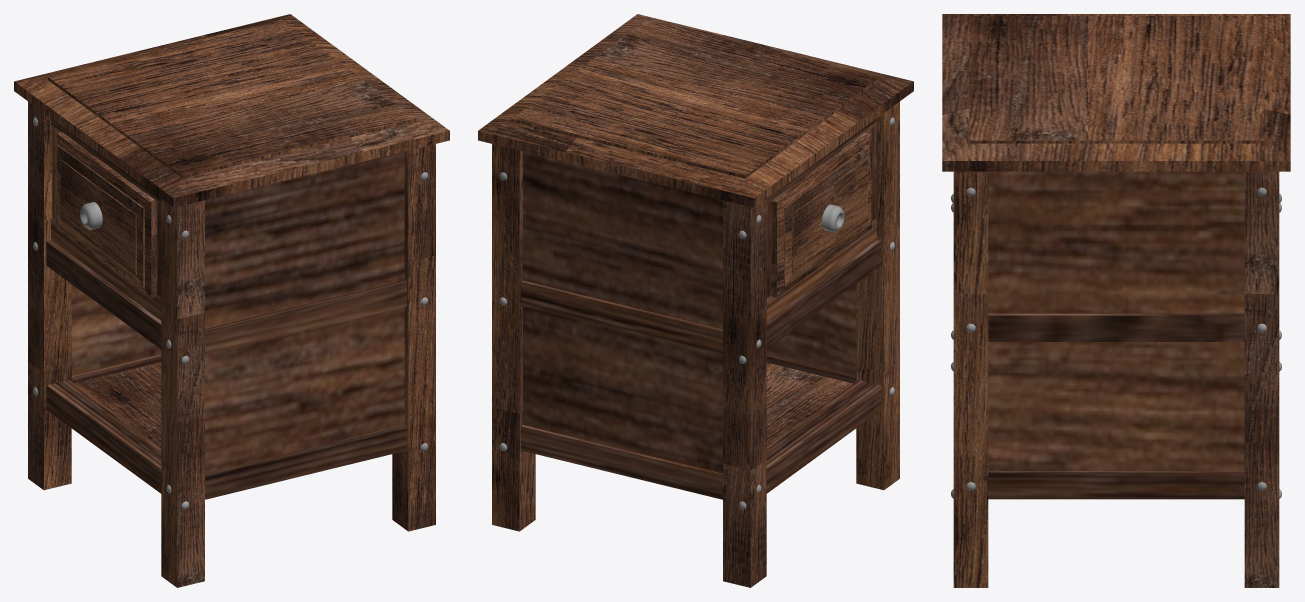
The model's file is mesita lampara.obj.
3 views of the same model, side by side, from view 1: azimuth 30°, elevation 25°; view 2: azimuth 150°, elevation 25°; view 3: azimuth 270°, elevation 25° (orthographic). The views are drawn at different scales.
Visible parts, largest first — view 1: Base_Cube.001; view 2: Base_Cube.001; view 3: Base_Cube.001.
Boxes of the visible parts, x1,y1,x2,y2 form: Base_Cube.001: (14, 14, 449, 587); Base_Cube.001: (478, 14, 913, 587); Base_Cube.001: (942, 14, 1290, 587).
Size of the model in its own units: 14.2 by 19.3 by 13.81.
12 materials, 12 textured.
